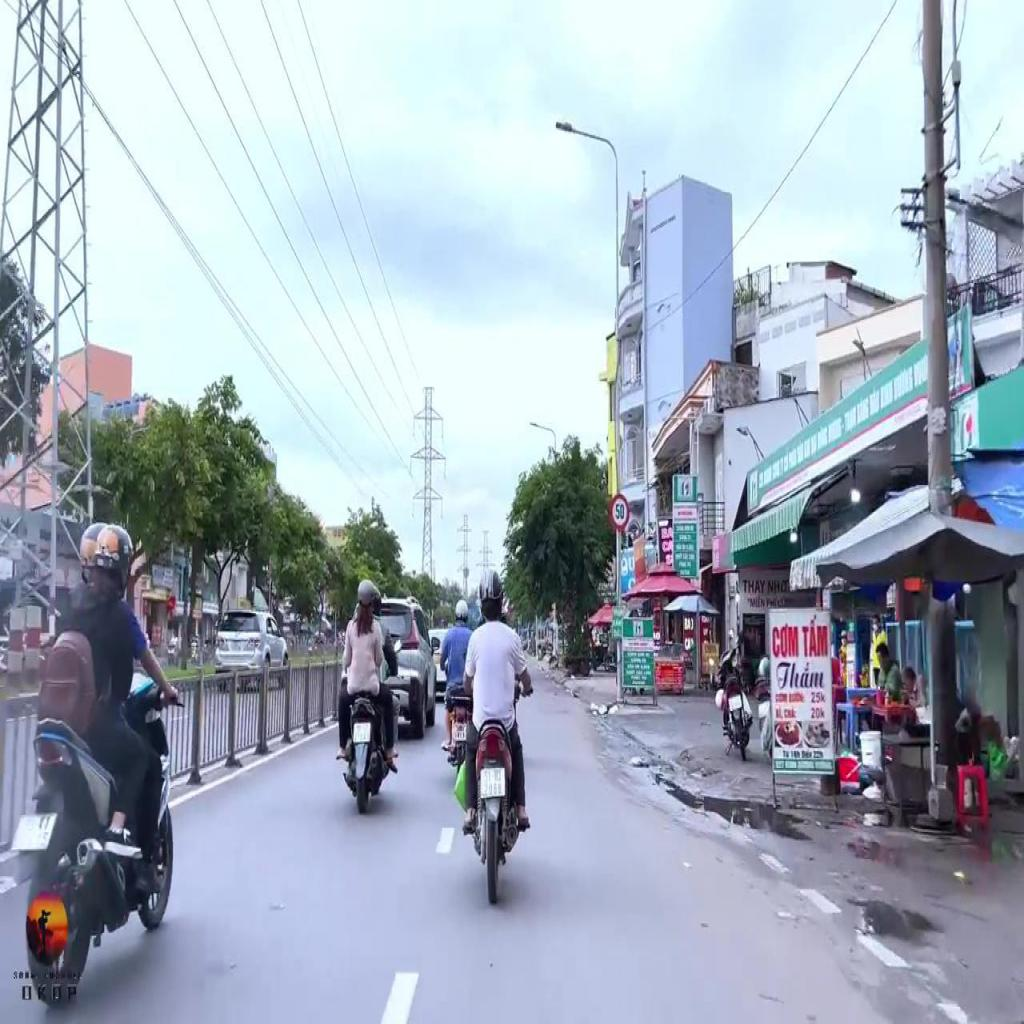toc_do_toi_da_50: (609, 494, 629, 530)
